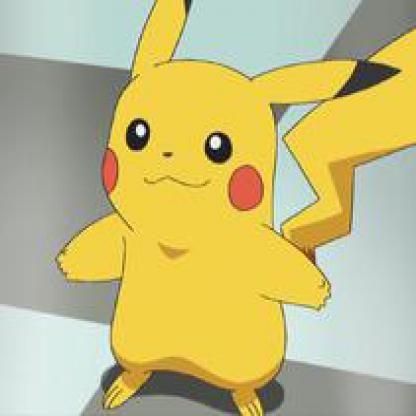Pikachu: (7, 1, 415, 415)
